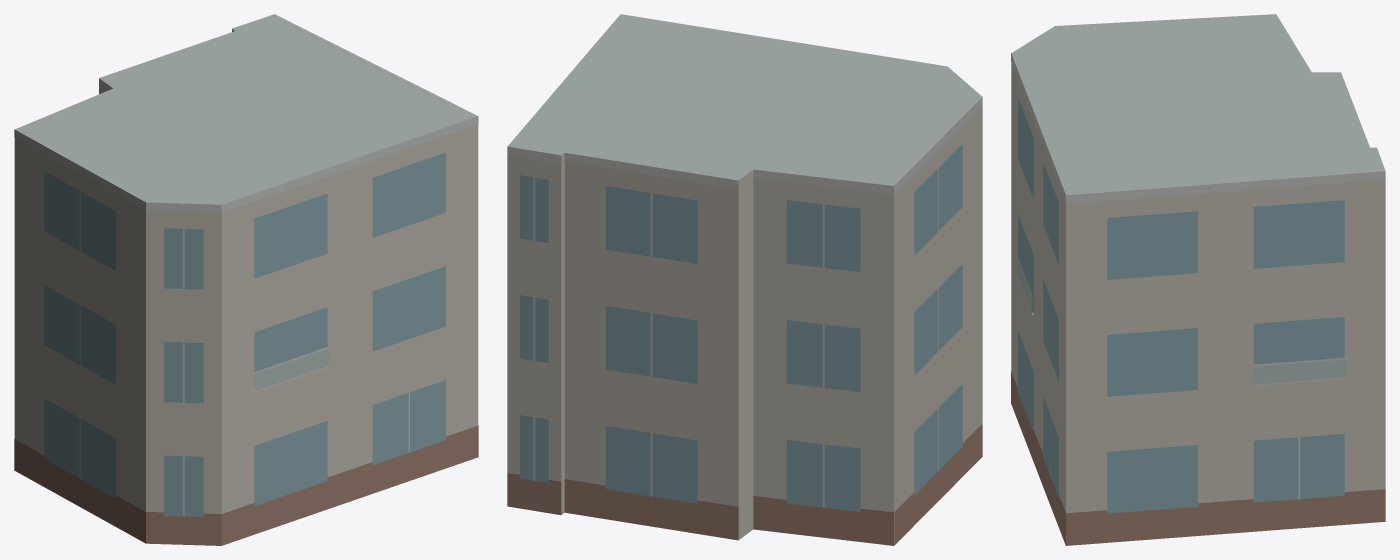
The model's file is survey-upis-32672367.glb.
3 views of the same model, side by side, from view 1: azimuth 30°, elevation 25°; view 2: azimuth 150°, elevation 25°; view 3: azimuth 270°, elevation 25° (orthographic). The views are drawn at different scales.
Parts seen in each view (by area): view 1: survey-upis-32672367.tmp; view 2: survey-upis-32672367.tmp; view 3: survey-upis-32672367.tmp.
Boxes of the visible parts, box(x1,y1,x2,y2) form: survey-upis-32672367.tmp: box(14, 14, 478, 545); survey-upis-32672367.tmp: box(507, 14, 982, 545); survey-upis-32672367.tmp: box(1011, 14, 1385, 545).
Bounding box in the file's own units: 11.21 × 10.1 × 9.79.
